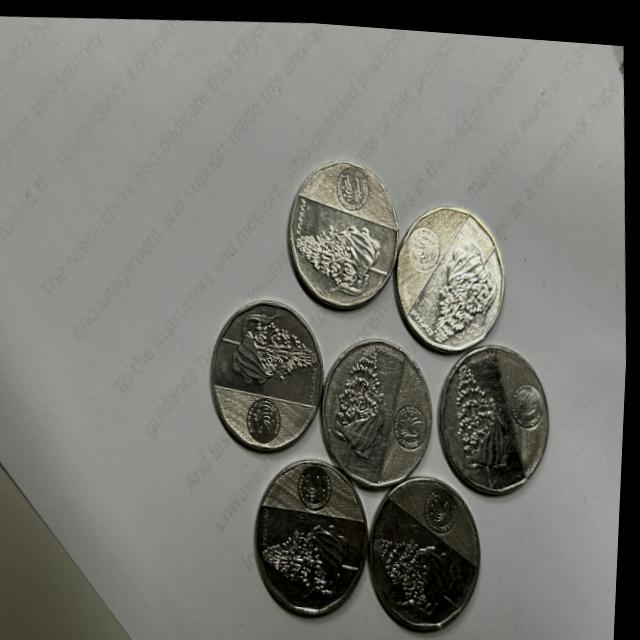10_New_Back: (371, 499, 468, 610), (269, 503, 374, 596), (227, 306, 325, 399), (432, 232, 505, 343), (295, 211, 391, 290), (328, 349, 395, 462), (460, 348, 506, 473)
